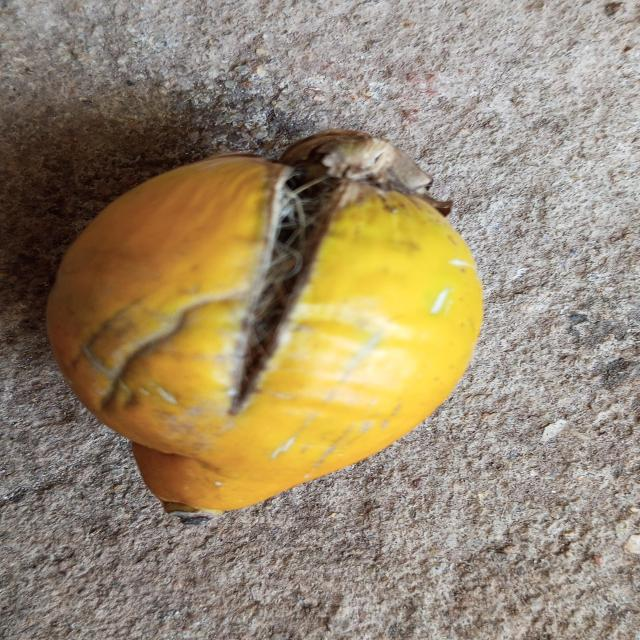damaged: (45, 131, 484, 516)
